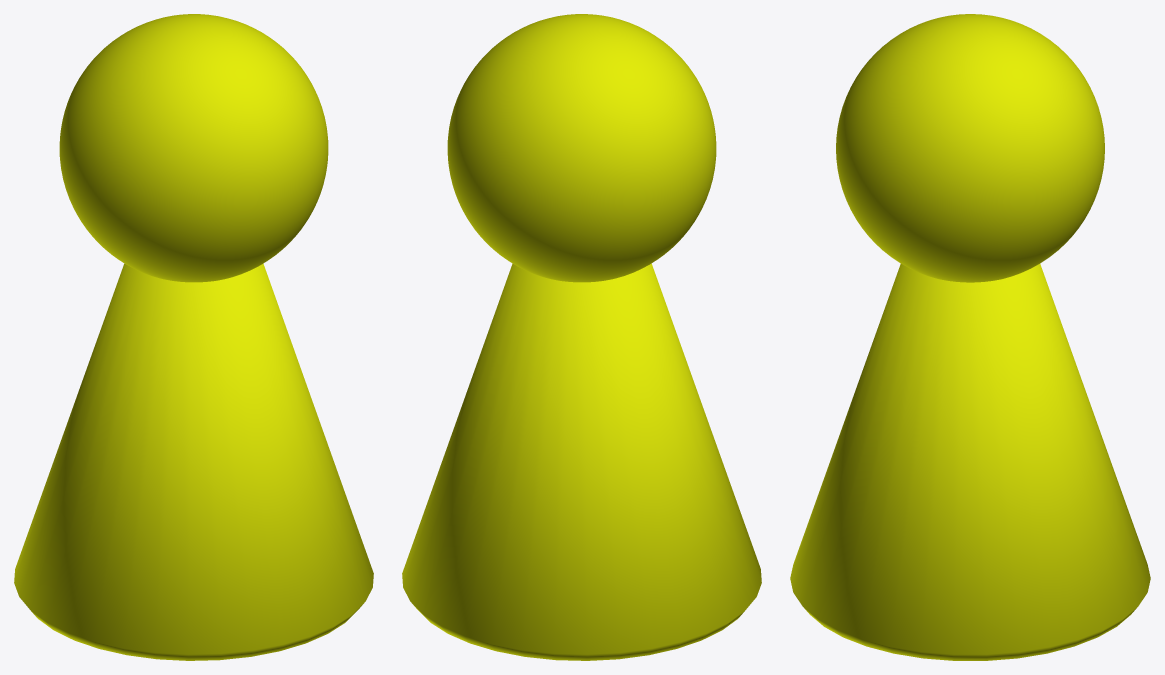
Rendered from Yellow_shape.gltf.
3 renders of one model, left to right at view 1: azimuth 30°, elevation 25°; view 2: azimuth 150°, elevation 25°; view 3: azimuth 270°, elevation 25°, orthographic.
Parts seen in each view (by area): view 1: Жёлтая_фигурка; view 2: Жёлтая_фигурка; view 3: Жёлтая_фигурка.
Boxes of the visible parts, box(x1,y1,x2,y2) form: Жёлтая_фигурка: box(14, 14, 373, 660); Жёлтая_фигурка: box(402, 14, 761, 660); Жёлтая_фигурка: box(790, 14, 1150, 660).
Bounding box in the file's own units: 2.46 × 4.3 × 2.47.
